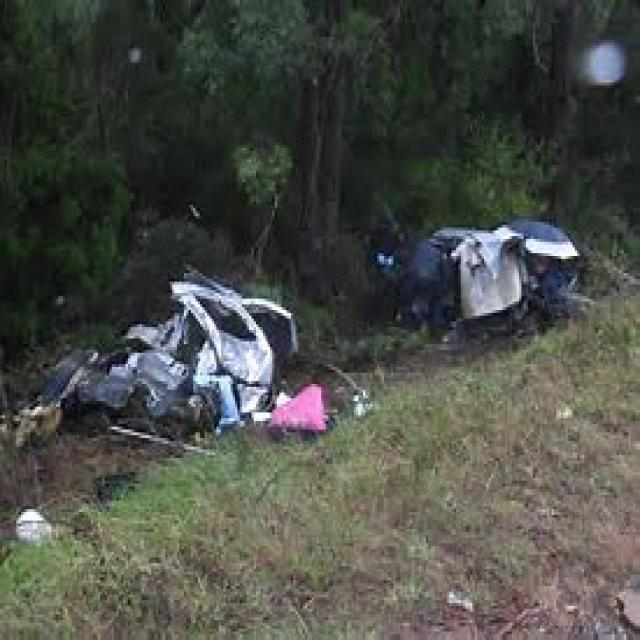Accident: (269, 61, 640, 418), (49, 156, 309, 478)
